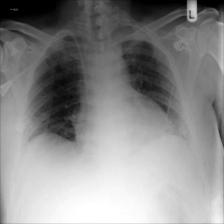normal: (19, 22, 197, 175)
